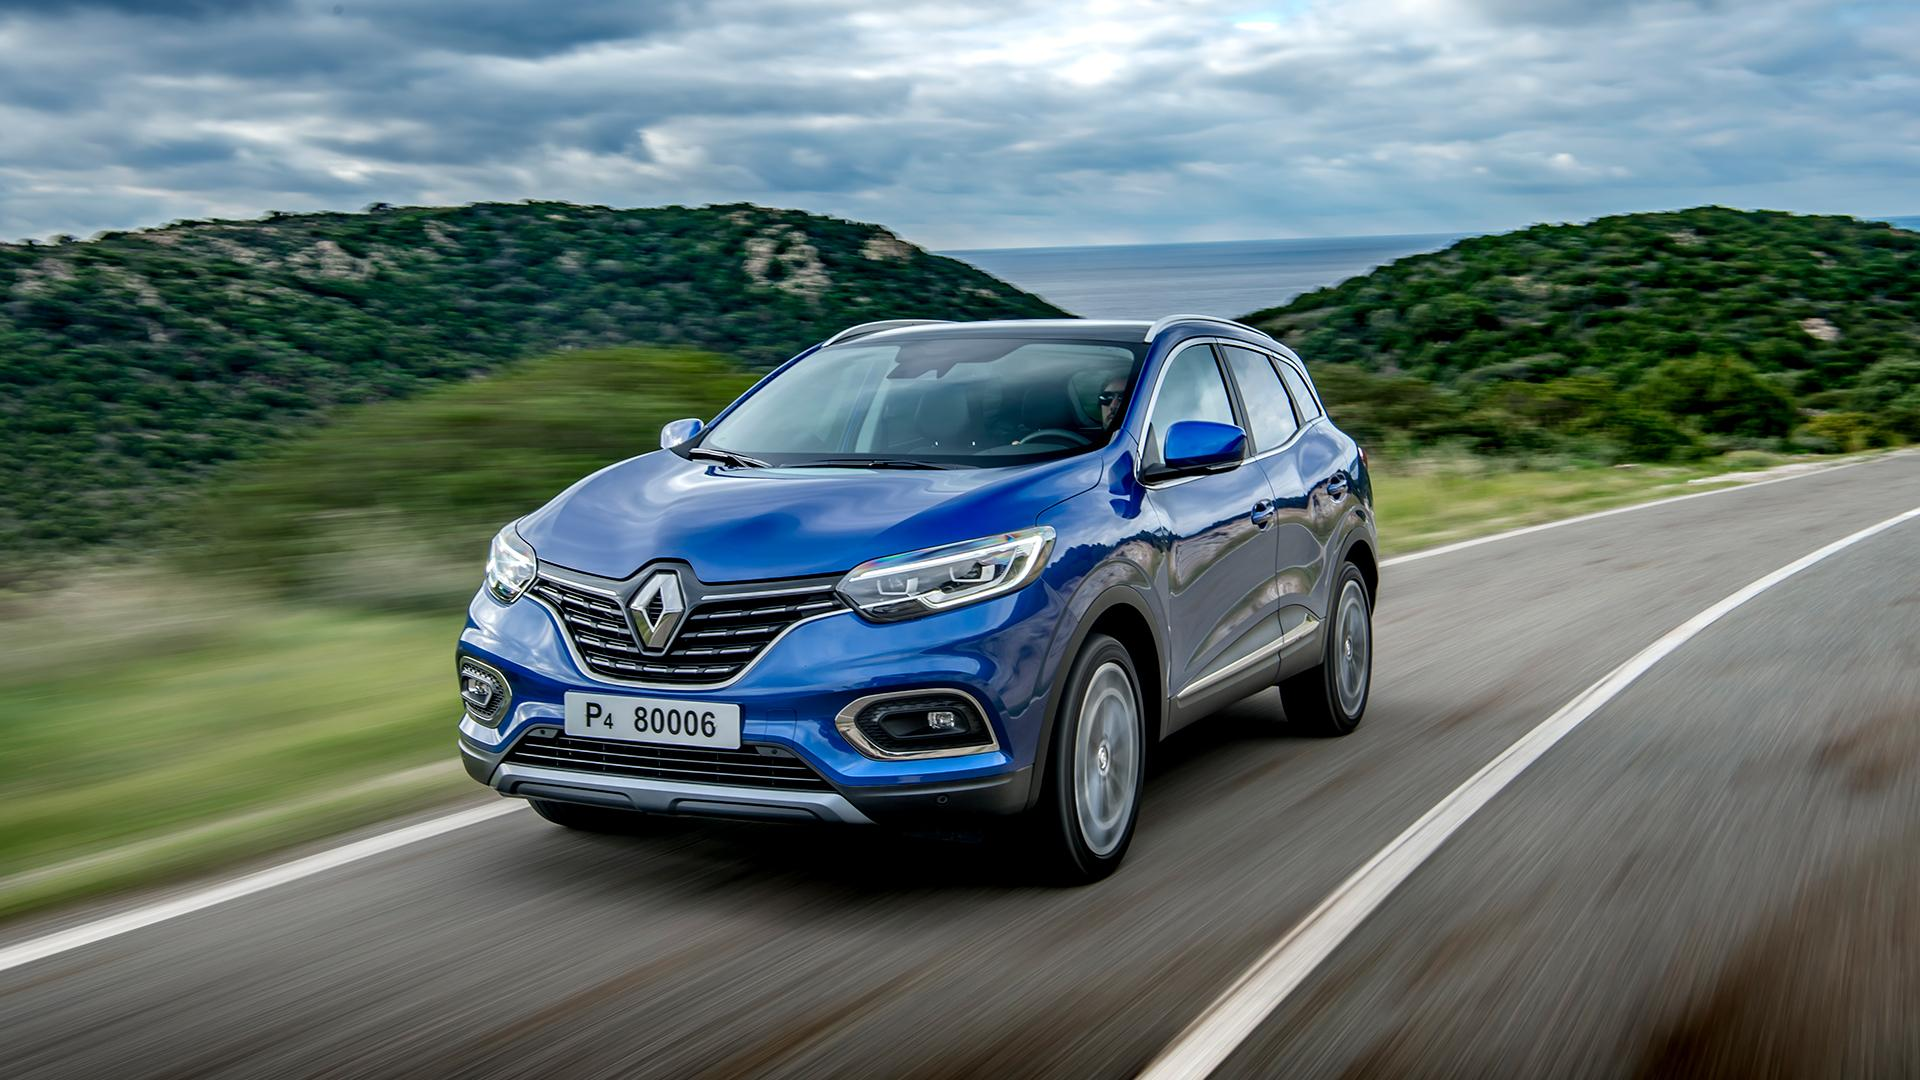Renault: (616, 558, 696, 663)
